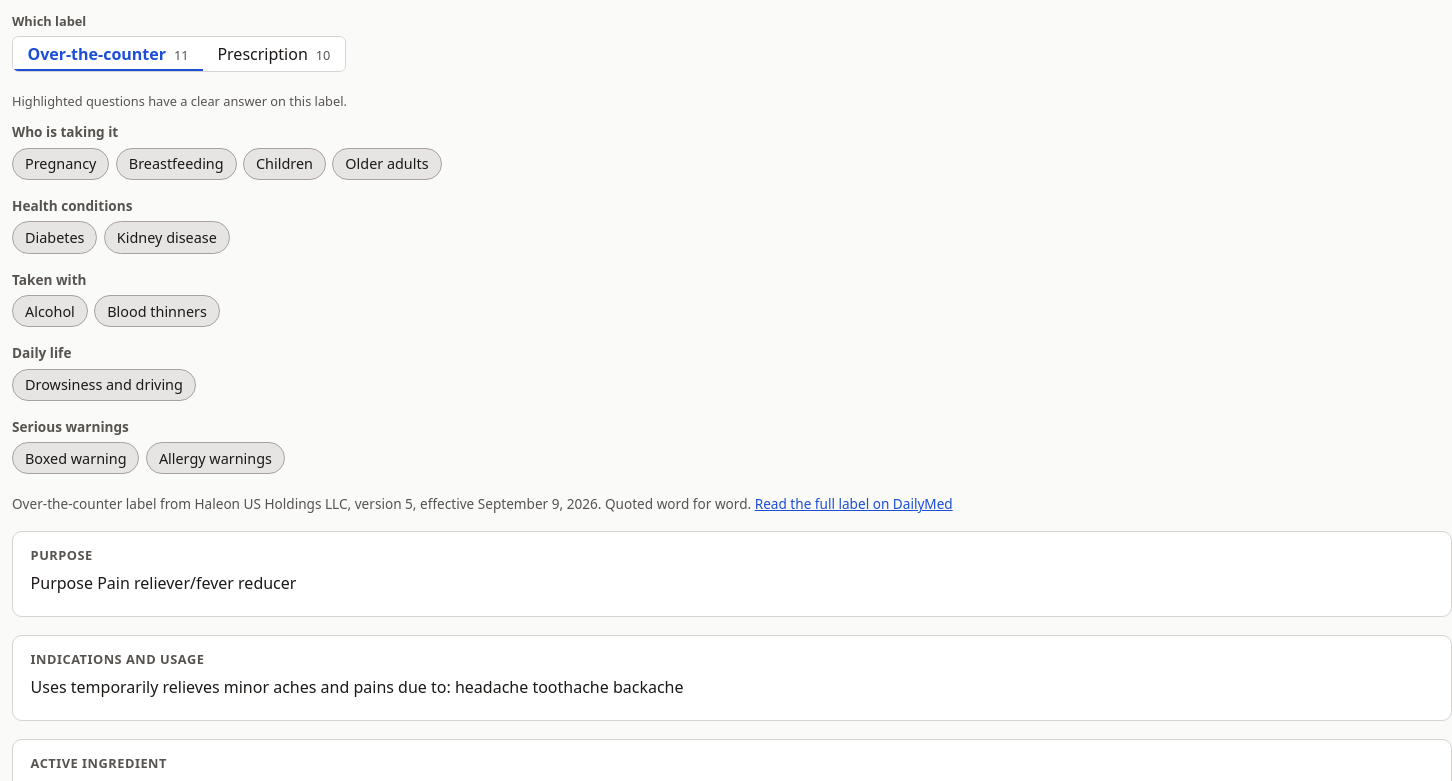
Test: DrugAnswers › points only from an unclear answer to a clear one on the other label
The width and height of the screenshot is (1452, 781).
Click the button "Pregnancy".
click(61, 164)  # box 12,148 -> 109,180
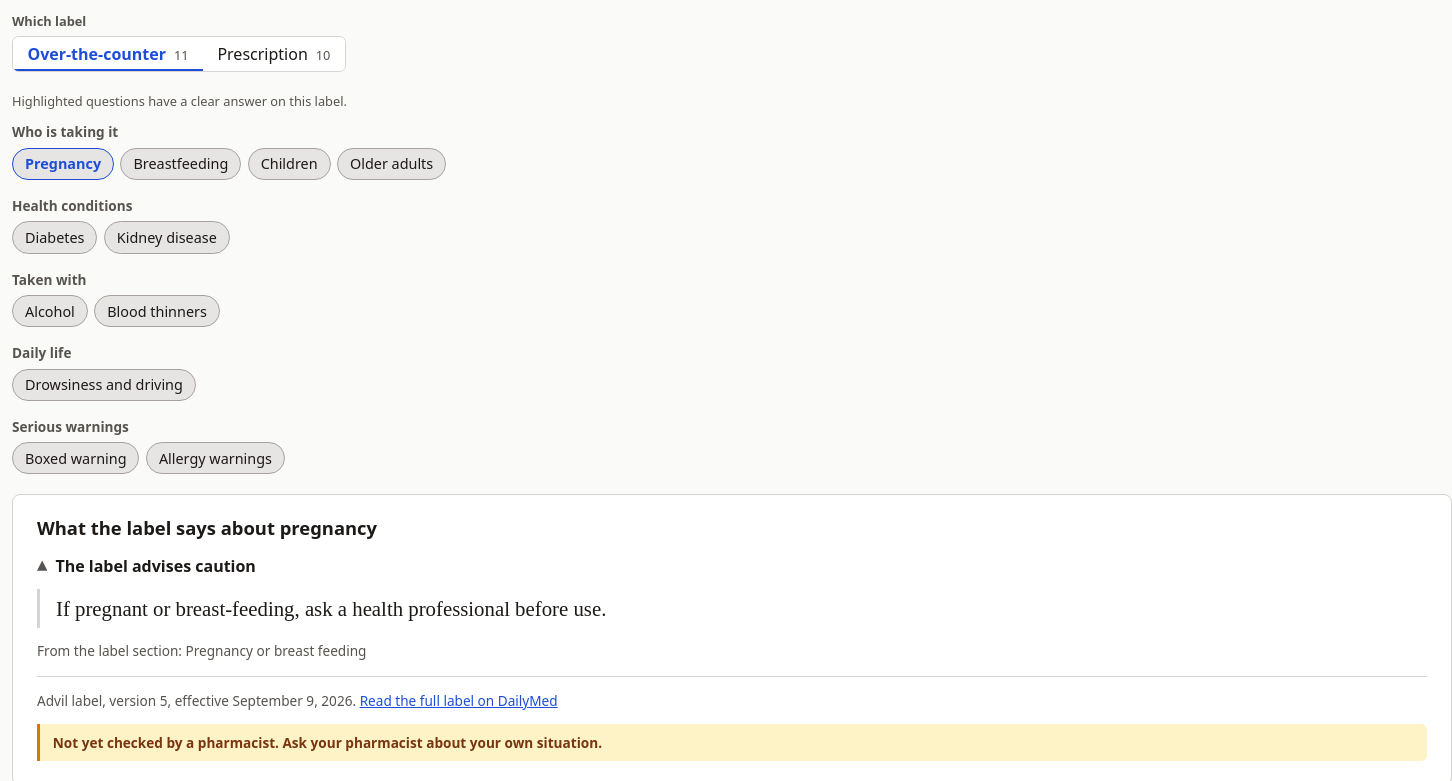
Expected: the text "label answers this" is not shown
Click the button "Prescription10".
click(274, 54)  # box 203,37 -> 345,71
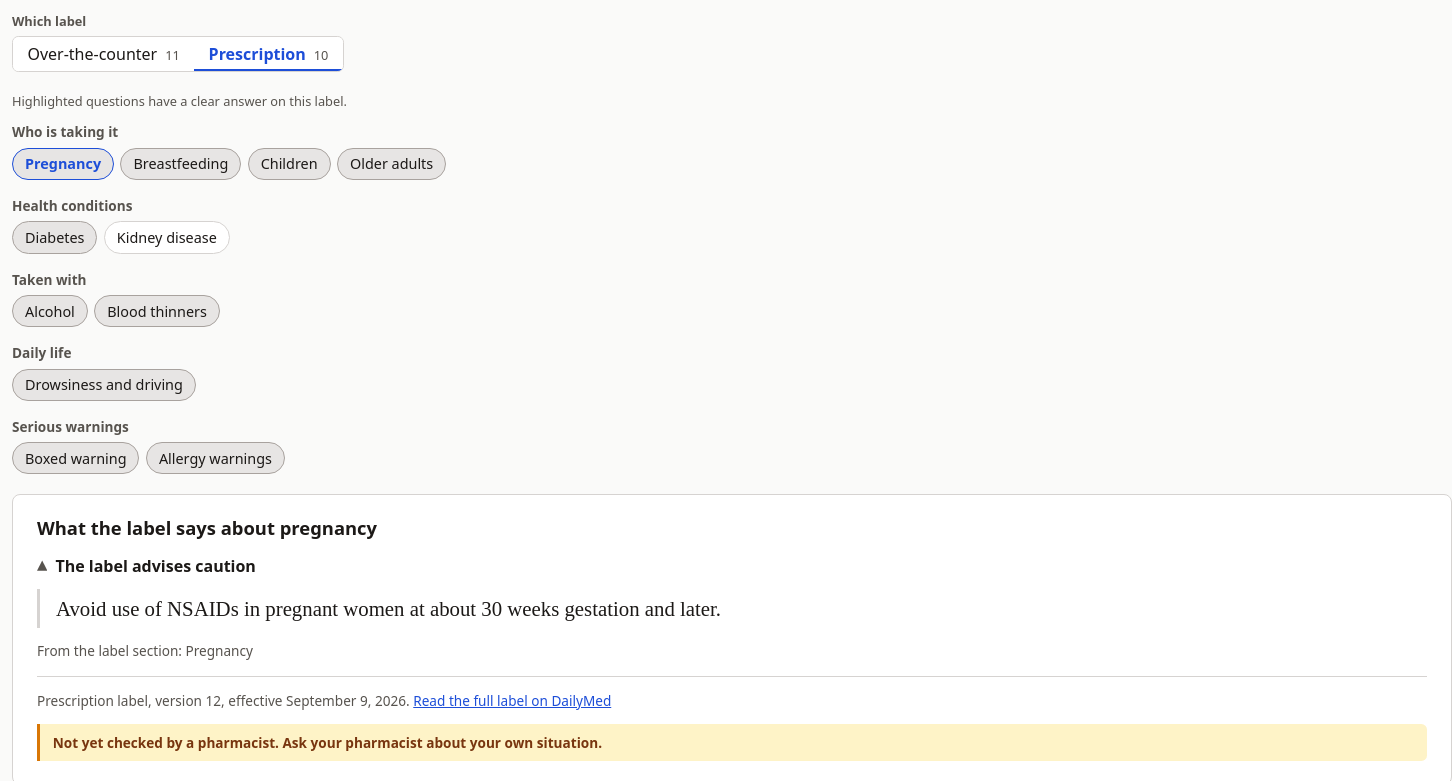
Click the button "Kidney disease".
click(167, 237)  # box 104,221 -> 230,254
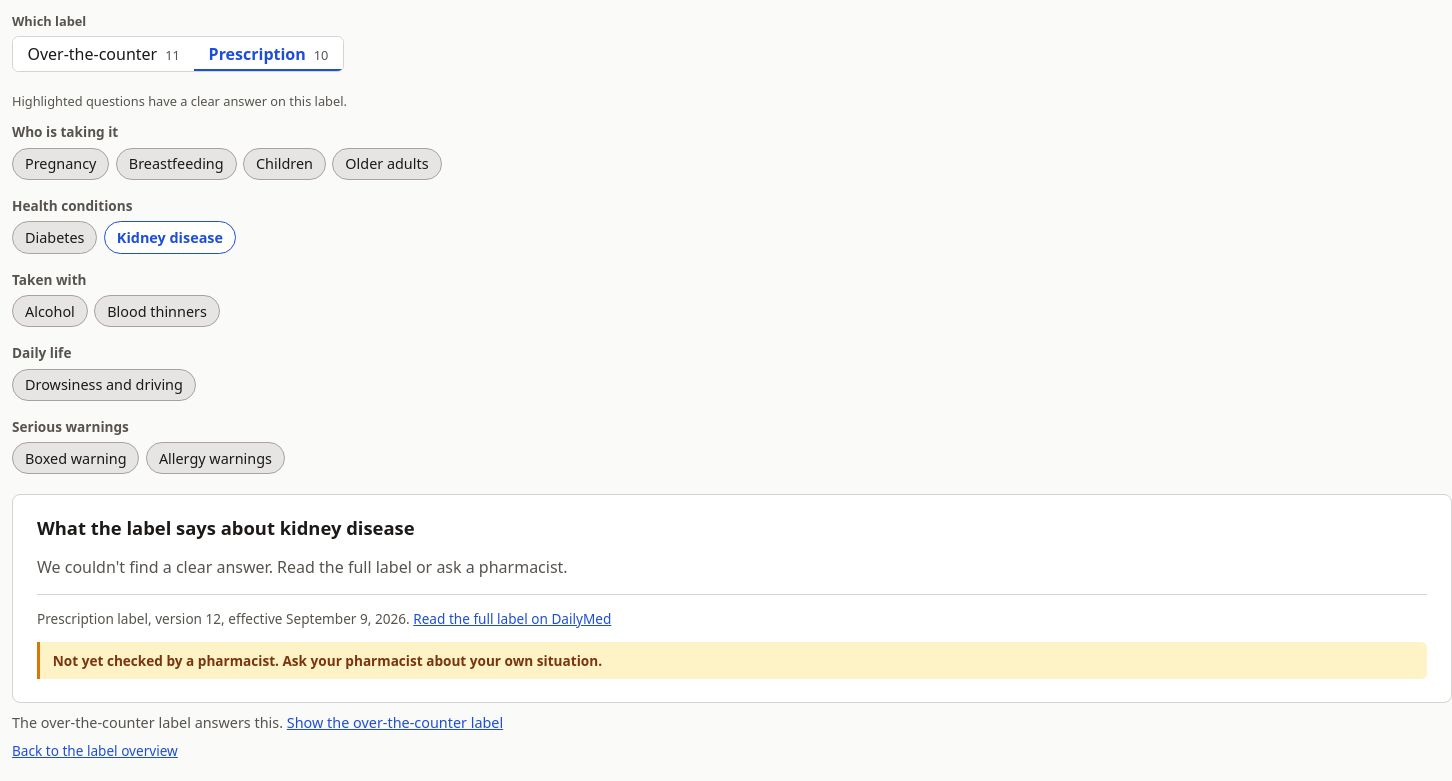
Expected: the text "The over-the-counter label answers this." is shown, 12,713 -> 283,732
